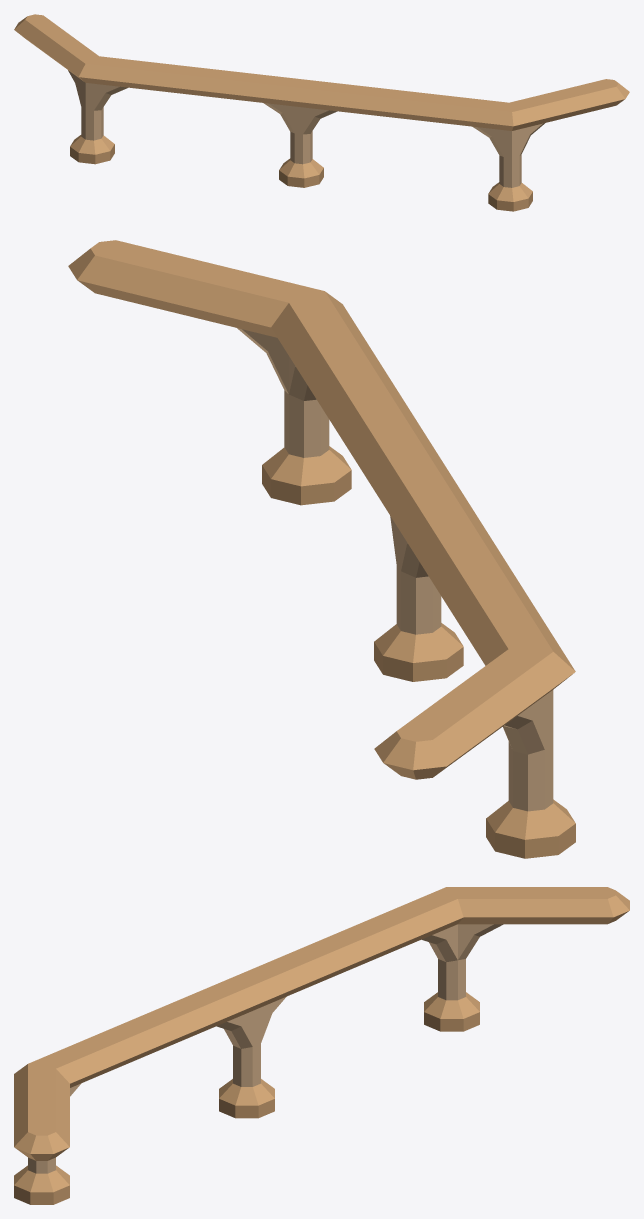
Rendered from Balcony_Railing_Tower.fbx.
3 renders of one model, top to bottom at view 1: azimuth 30°, elevation 25°; view 2: azimuth 150°, elevation 25°; view 3: azimuth 270°, elevation 25°, orthographic. The views are drawn at different scales.
Parts seen in each view (by area): view 1: Sandstone_5.Sandstone_5.Sandstone_5.Sandstone_5.Sandstone_5., Sandstone_4.Sandstone_4.Sandstone_4.Sandstone_4.Sandstone_4.; view 2: Sandstone_5.Sandstone_5.Sandstone_5.Sandstone_5.Sandstone_5., Sandstone_4.Sandstone_4.Sandstone_4.Sandstone_4.Sandstone_4.; view 3: Sandstone_5.Sandstone_5.Sandstone_5.Sandstone_5.Sandstone_5., Sandstone_4.Sandstone_4.Sandstone_4.Sandstone_4.Sandstone_4..
Part boxes in pixels (box(x1,y1,x2,y2)): Sandstone_5.Sandstone_5.Sandstone_5.Sandstone_5.Sandstone_5.: box(14, 14, 629, 211); Sandstone_4.Sandstone_4.Sandstone_4.Sandstone_4.Sandstone_4.: box(68, 70, 544, 187); Sandstone_5.Sandstone_5.Sandstone_5.Sandstone_5.Sandstone_5.: box(68, 240, 575, 858); Sandstone_4.Sandstone_4.Sandstone_4.Sandstone_4.Sandstone_4.: box(237, 328, 553, 811); Sandstone_5.Sandstone_5.Sandstone_5.Sandstone_5.Sandstone_5.: box(14, 887, 629, 1204); Sandstone_4.Sandstone_4.Sandstone_4.Sandstone_4.Sandstone_4.: box(28, 924, 503, 1173).
Bounding box in the file's own units: 2.2 × 0.5 × 2.2.
